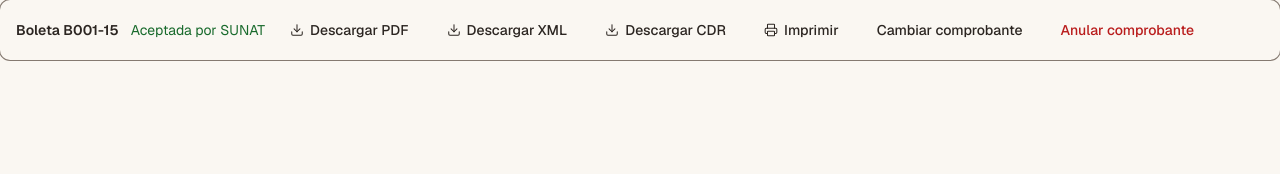
it: IssuedInvoice: descargar › si el servicio de facturación no responde (502) pide intentar en unos minutos
The width and height of the screenshot is (1280, 174).
Click the button "Descargar PDF" at (349, 30), box [277,12,422,48]
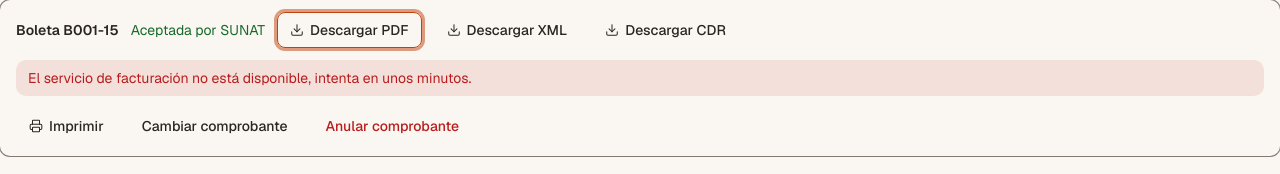
Now the text "El servicio de facturación no está disponible, intenta en unos minutos." is shown, box [16,60,1264,96]
